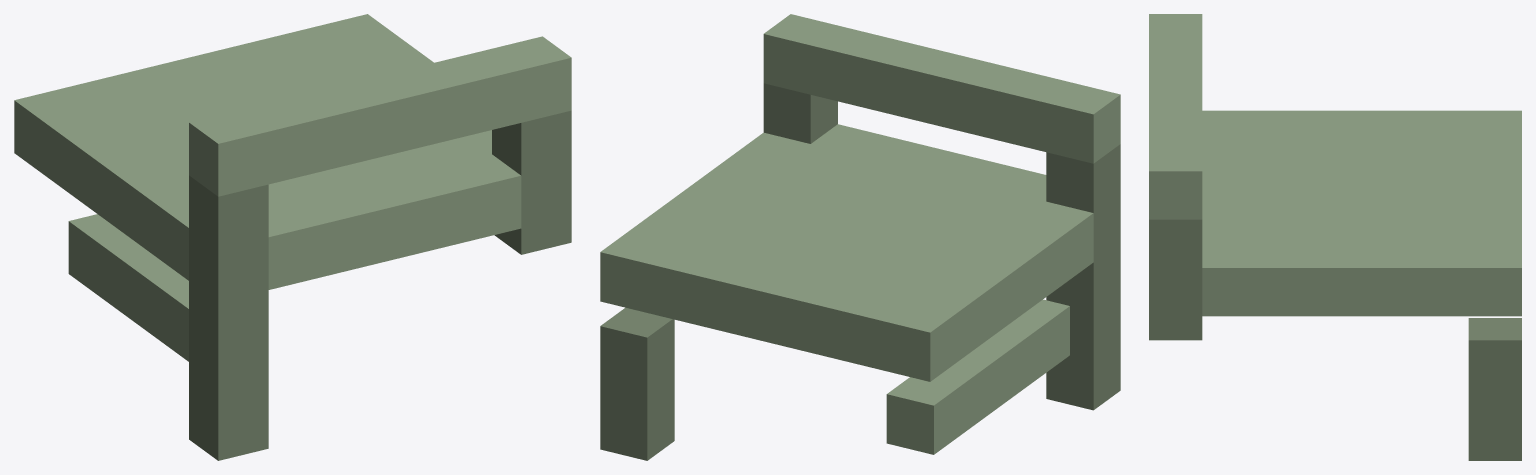
File: silla_rota_01.glb
3 renders of one model, left to right at view 1: azimuth 30°, elevation 25°; view 2: azimuth 150°, elevation 25°; view 3: azimuth 270°, elevation 25°, orthographic. The views are drawn at different scales.
Visible parts, largest first — view 1: silla_rota; view 2: silla_rota; view 3: silla_rota.
Boxes of the visible parts, x1=… form: silla_rota: x1=14, y1=14, x2=571, y2=460; silla_rota: x1=600, y1=14, x2=1120, y2=460; silla_rota: x1=1149, y1=14, x2=1521, y2=460.
Size of the model in its own units: 1 by 0.8571 by 1.
